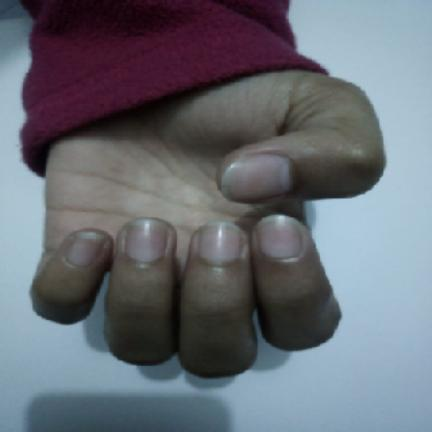Nail: (220, 154, 290, 201), (256, 215, 304, 258), (199, 220, 244, 263), (127, 219, 170, 262), (66, 230, 108, 267)
